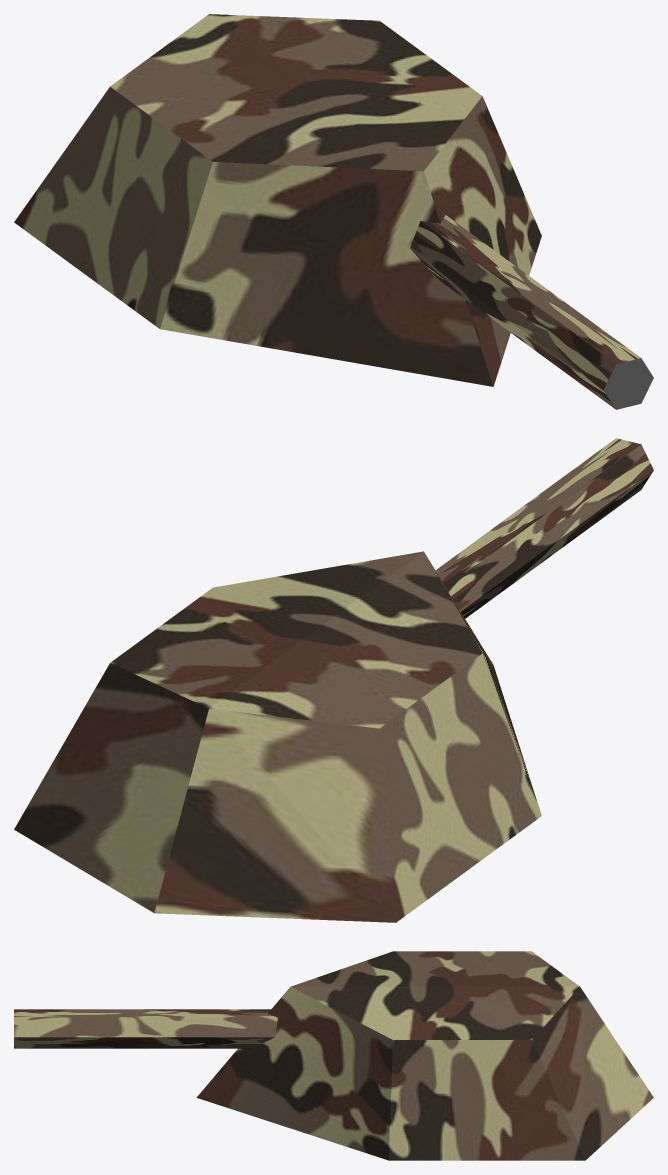
Rendered from tank_head.fbx.
The picture shows the model from 3 angles, top to bottom: view 1: azimuth 30°, elevation 25°; view 2: azimuth 150°, elevation 25°; view 3: azimuth 270°, elevation 25°; orthographic projection. The views are drawn at different scales.
Parts seen in each view (by area): view 1: polySurface91; view 2: polySurface91; view 3: polySurface91.
Boxes of the visible parts, left/top/right/bottom form: polySurface91: left=14, top=14, right=653, bottom=409; polySurface91: left=14, top=438, right=653, bottom=922; polySurface91: left=14, top=951, right=653, bottom=1160.
Size of the model in its own units: 1.51 by 0.6228 by 3.25.
